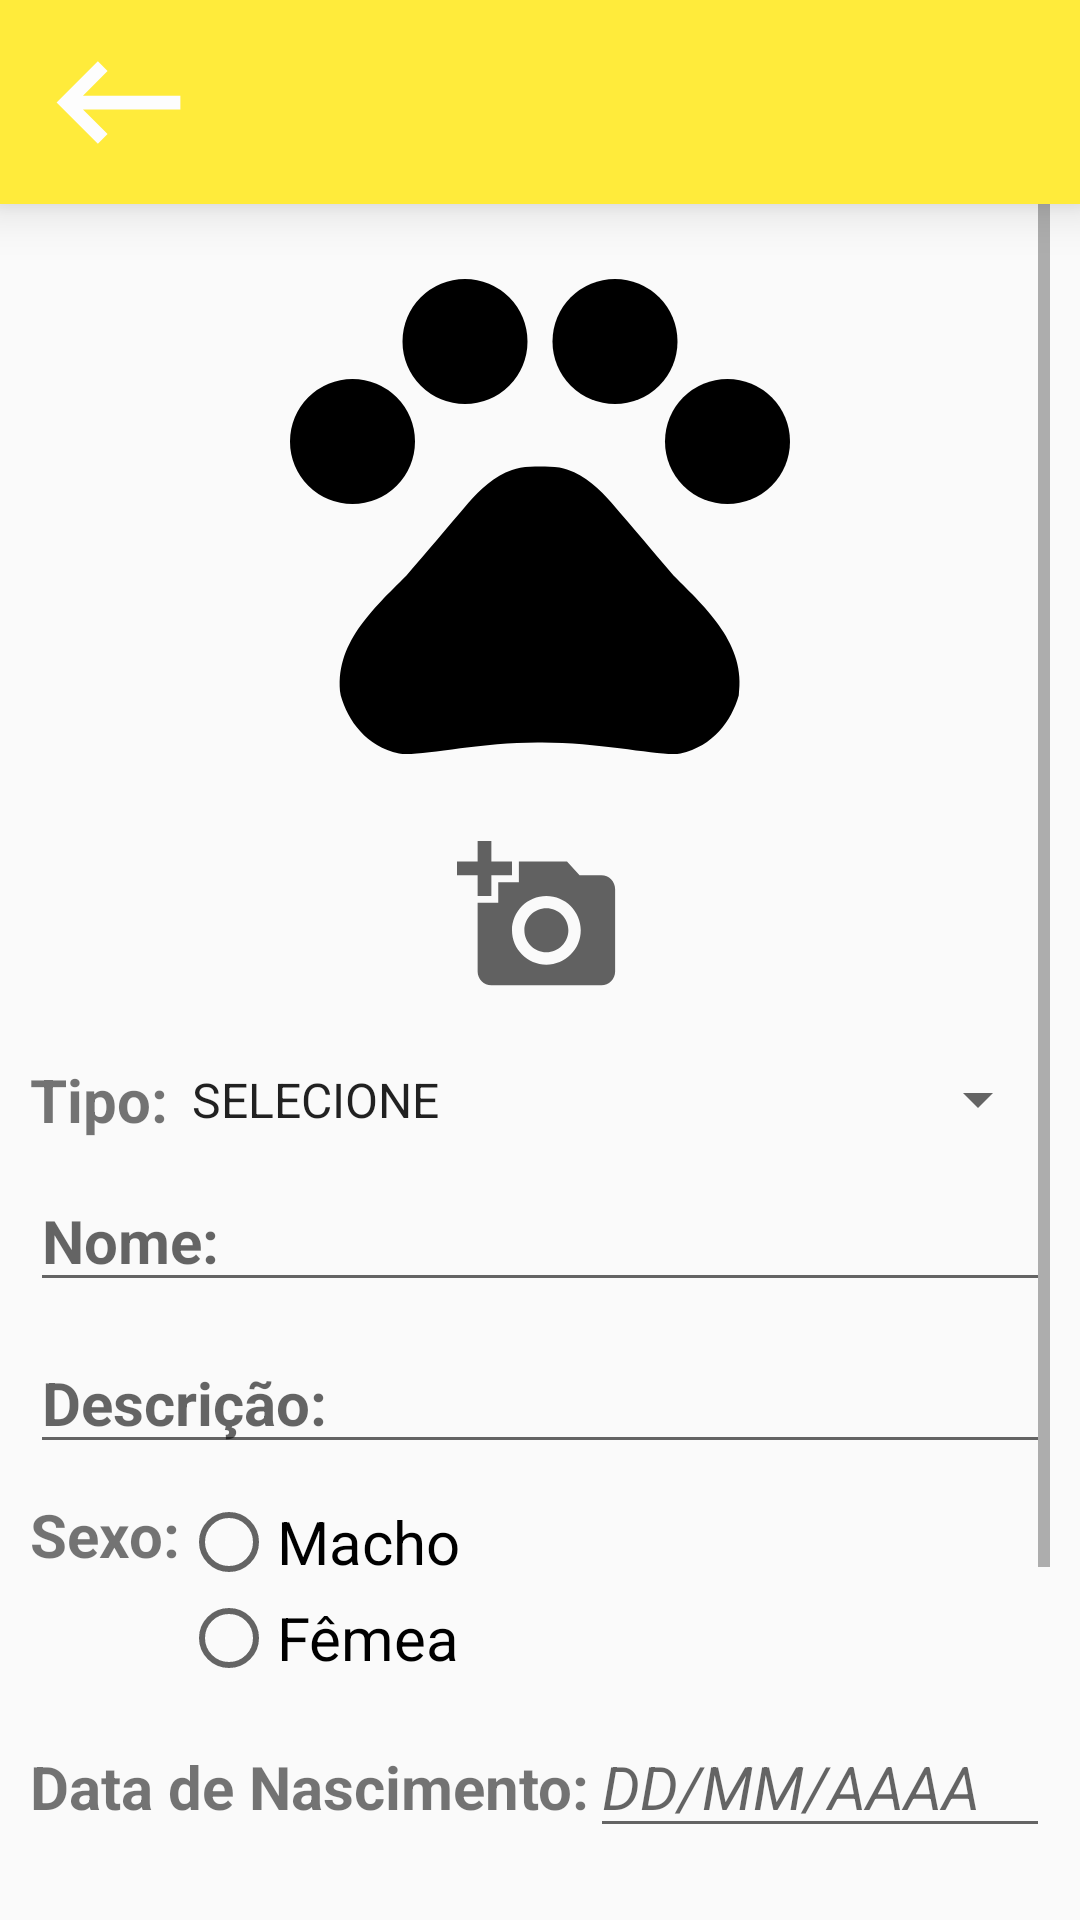

Where to tap for icons on this 1080px x 1920px app screen, as point (x, y):
add foto: point (536, 913)
voltar: point (118, 102)
